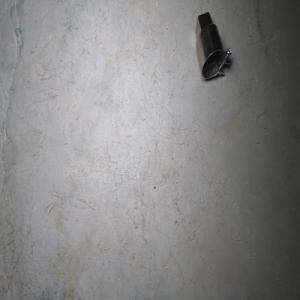MetalPart: (194, 11, 232, 79)
